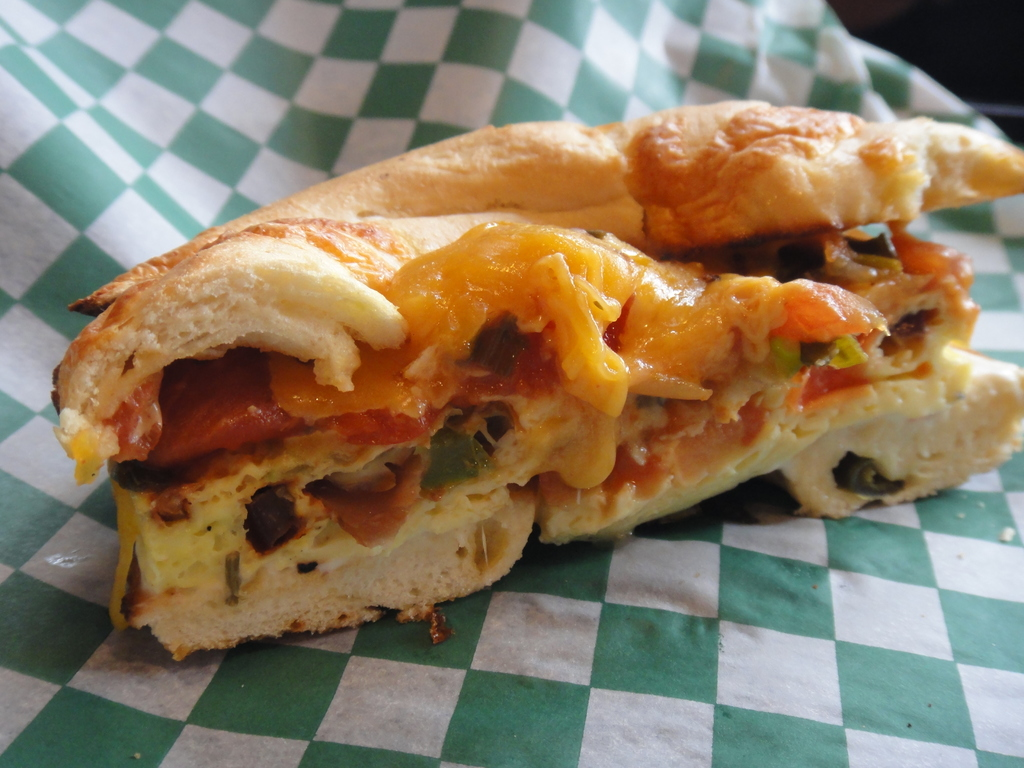sandwich: (49, 99, 1023, 663)
